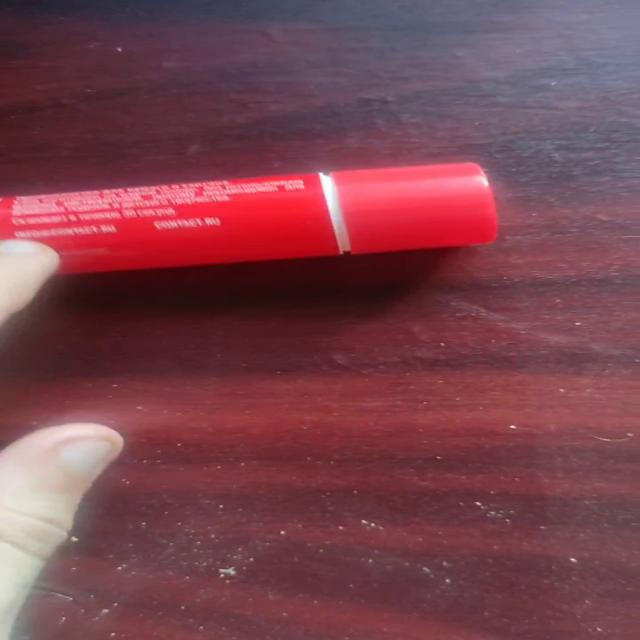glue: (0, 155, 529, 286)
